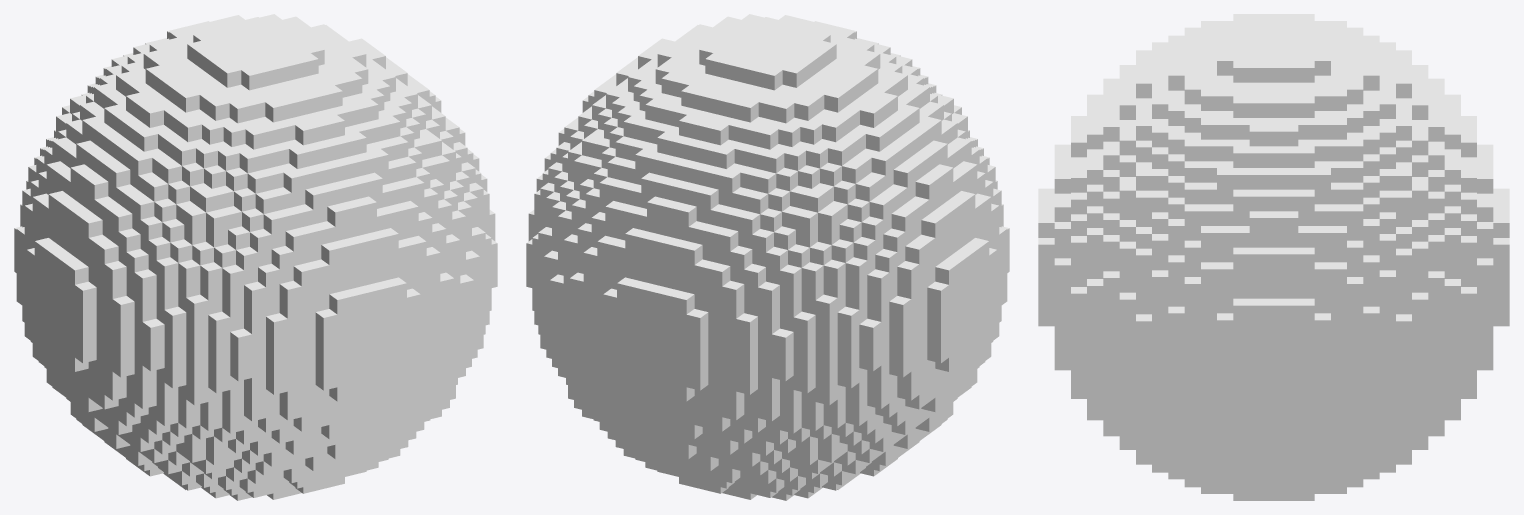
The model's file is Base_Planet.obj.
3 views of the same model, side by side, from view 1: azimuth 30°, elevation 25°; view 2: azimuth 150°, elevation 25°; view 3: azimuth 270°, elevation 25° (orthographic).
Visible parts, largest first — view 1: Base_Planet; view 2: Base_Planet; view 3: Base_Planet.
Part boxes in pixels (bbox=[...]): Base_Planet: bbox=[14, 14, 497, 500]; Base_Planet: bbox=[526, 14, 1009, 500]; Base_Planet: bbox=[1038, 14, 1509, 500].
Size of the model in its own units: 29 by 29 by 29.
1 material, 1 textured.
